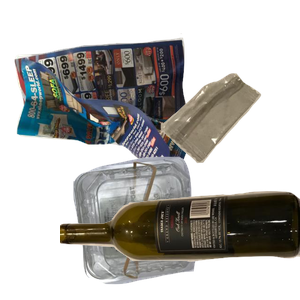glass: (60, 189, 300, 300)
paper: (12, 31, 196, 204)
plastic: (71, 154, 300, 300)
trash: (158, 71, 300, 227)
